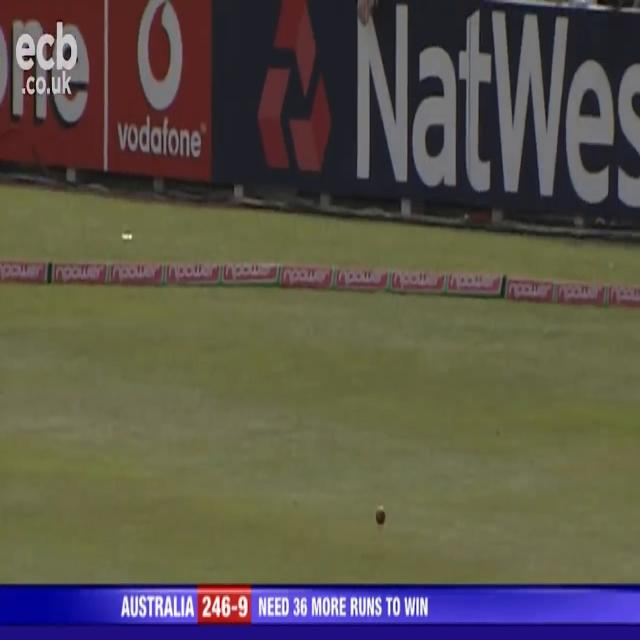ball: (369, 502, 390, 527)
